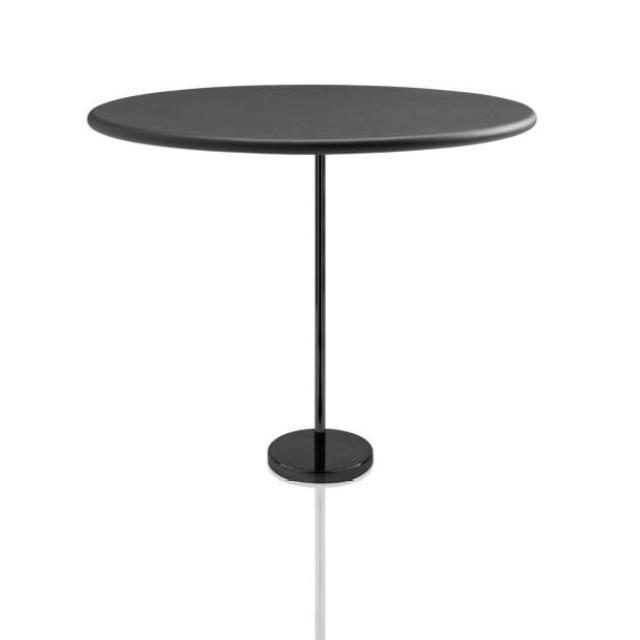table: (86, 81, 536, 488)
